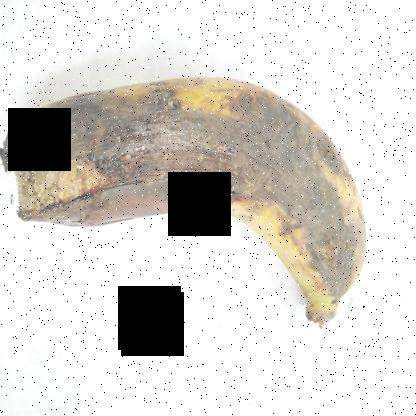rotten: (18, 35, 387, 289)
